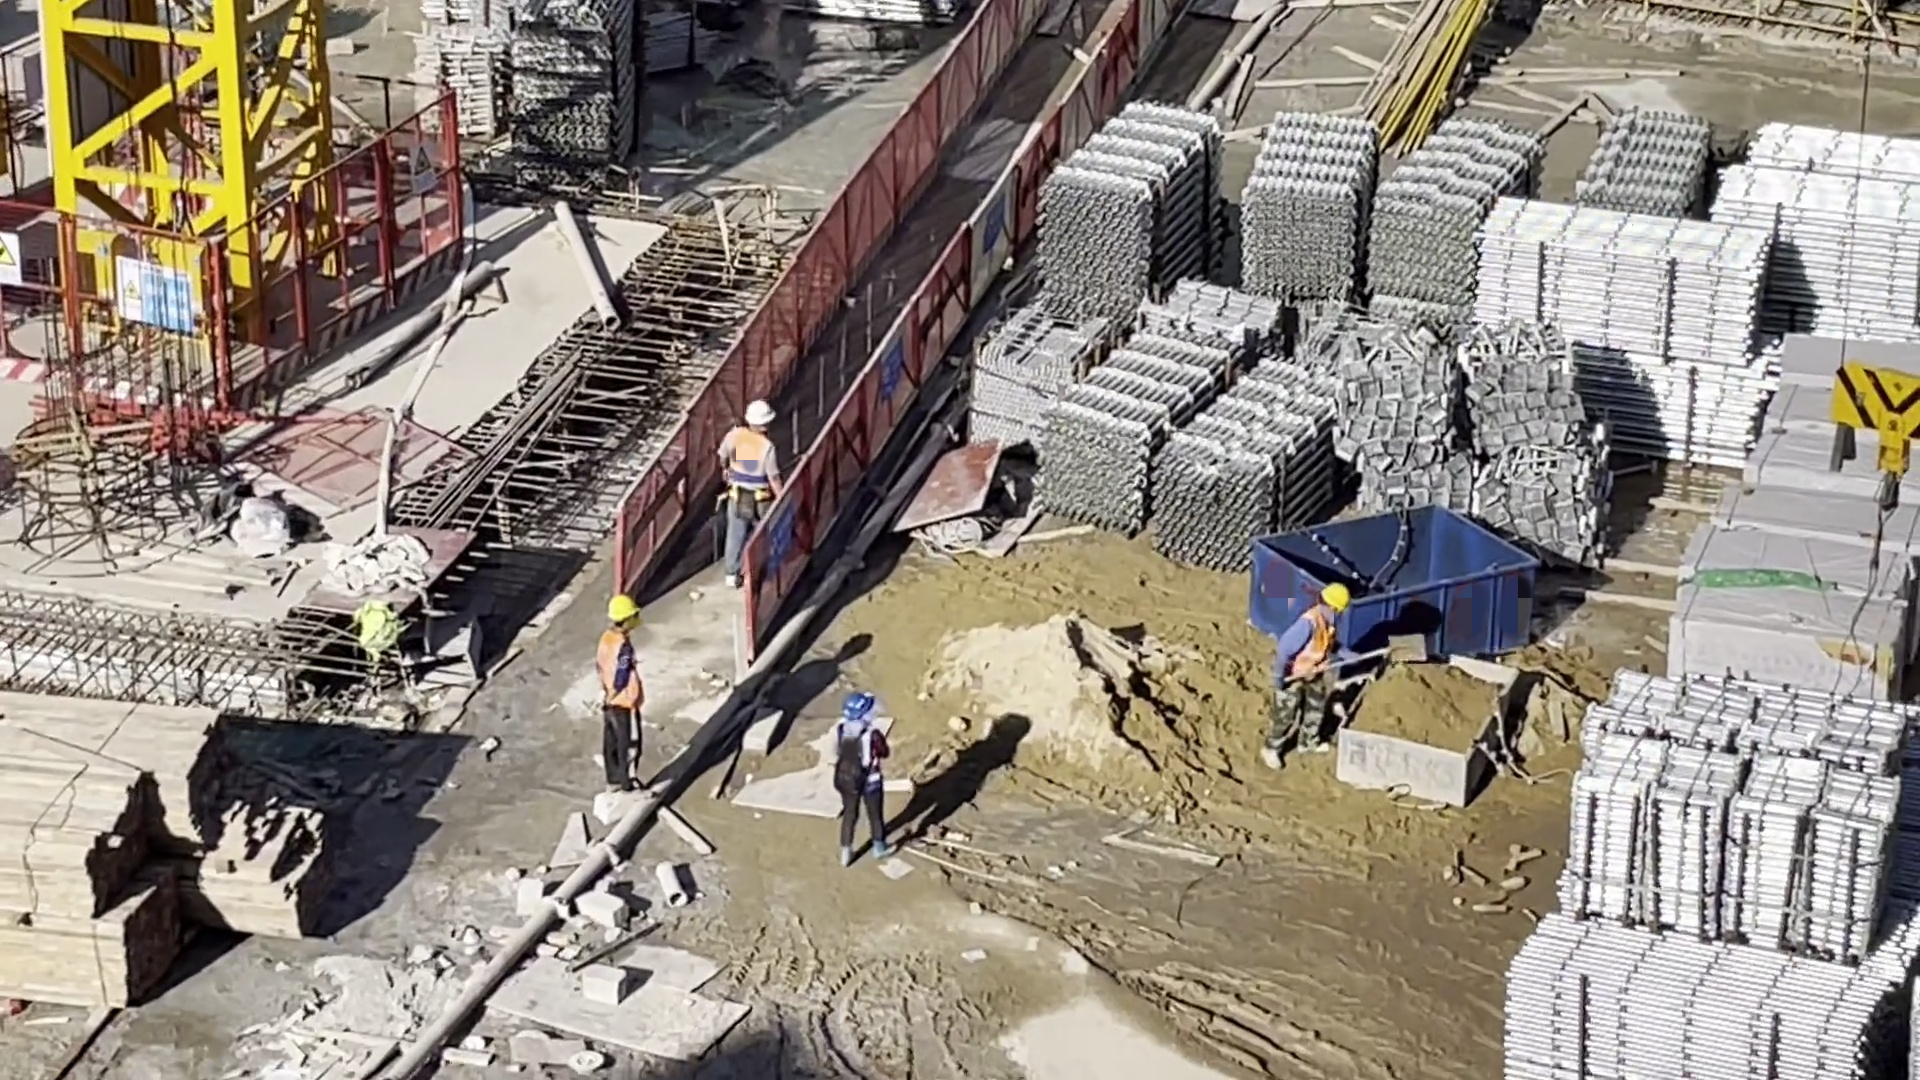fence: (600, 1, 1142, 670)
helmet: (593, 587, 651, 639), (733, 387, 780, 441), (824, 687, 890, 724), (1314, 571, 1359, 619)
hook: (1820, 341, 1920, 513)
hopper: (1269, 484, 1543, 662), (1356, 642, 1501, 796)
person: (1275, 582, 1346, 760), (825, 689, 897, 864), (709, 397, 774, 582), (595, 586, 645, 793)
scaffold: (1495, 663, 1920, 1080), (1475, 199, 1775, 463), (1040, 324, 1332, 572), (1706, 116, 1920, 345), (1036, 99, 1225, 324), (1358, 114, 1524, 305), (1235, 108, 1369, 305), (1569, 82, 1713, 231)
vest: (1285, 609, 1335, 682), (603, 632, 649, 702), (721, 426, 765, 473)
wood: (1, 679, 334, 985)
